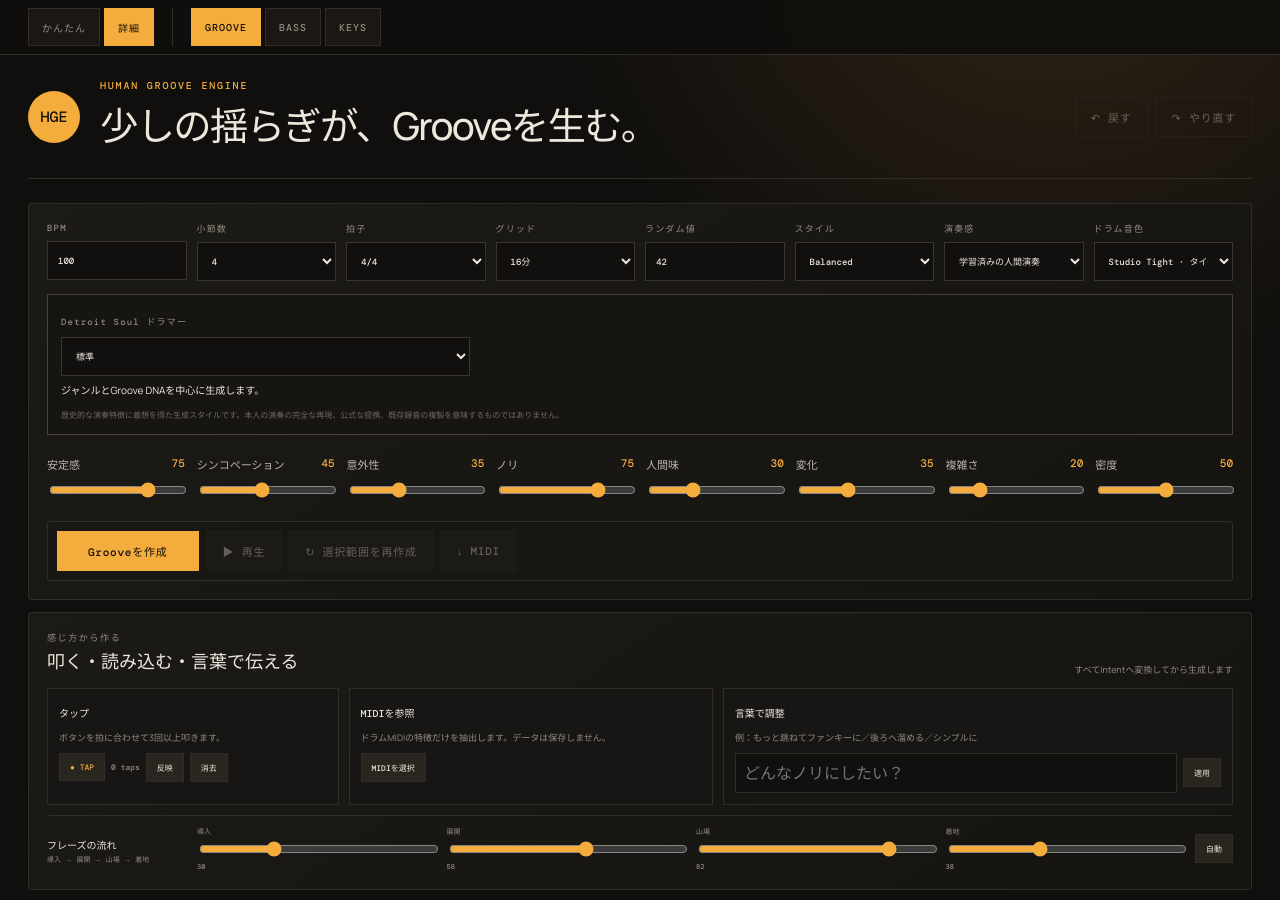
Test: passes the generated Groove candidate into the Bass context link flow
Click the button "Grooveを作成" at x=128, y=550, box [57,530,198,570]
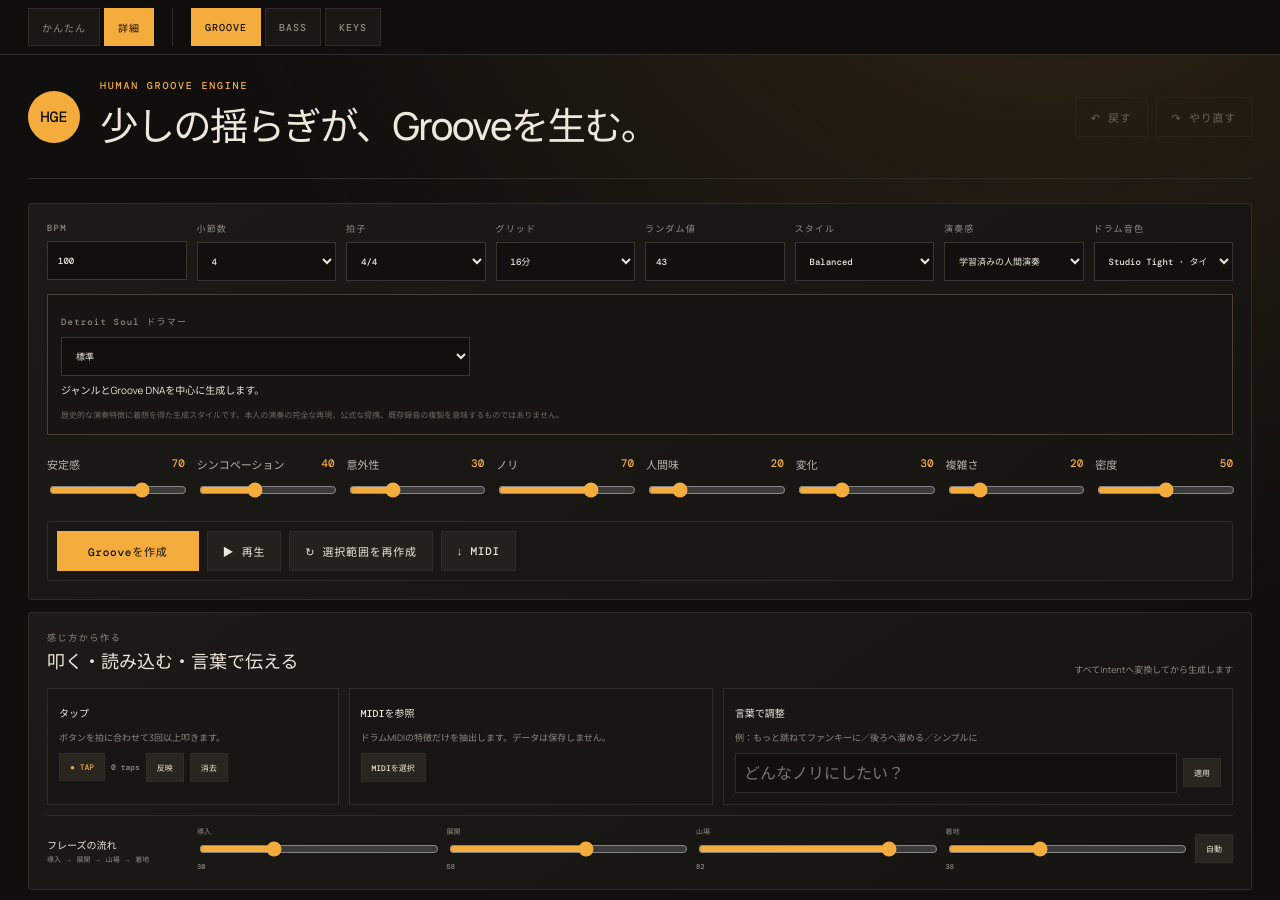
Select "Warm Pocket · 柔らかく太い" in the dropdown labelled "ドラム音色" at x=1163, y=262, box [1094,242,1233,281]
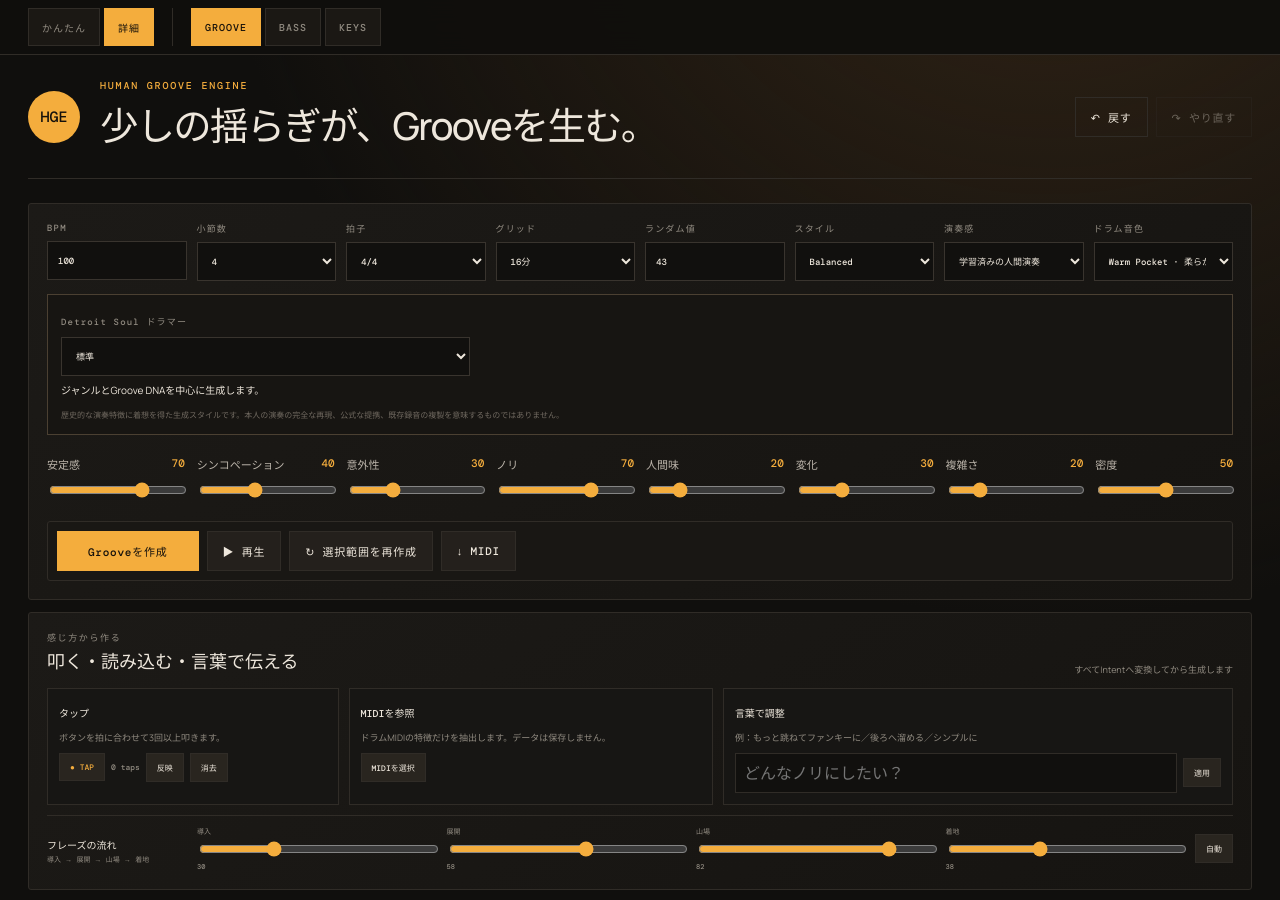
Click the button "BASS" at x=293, y=27, box [265,8,321,46]
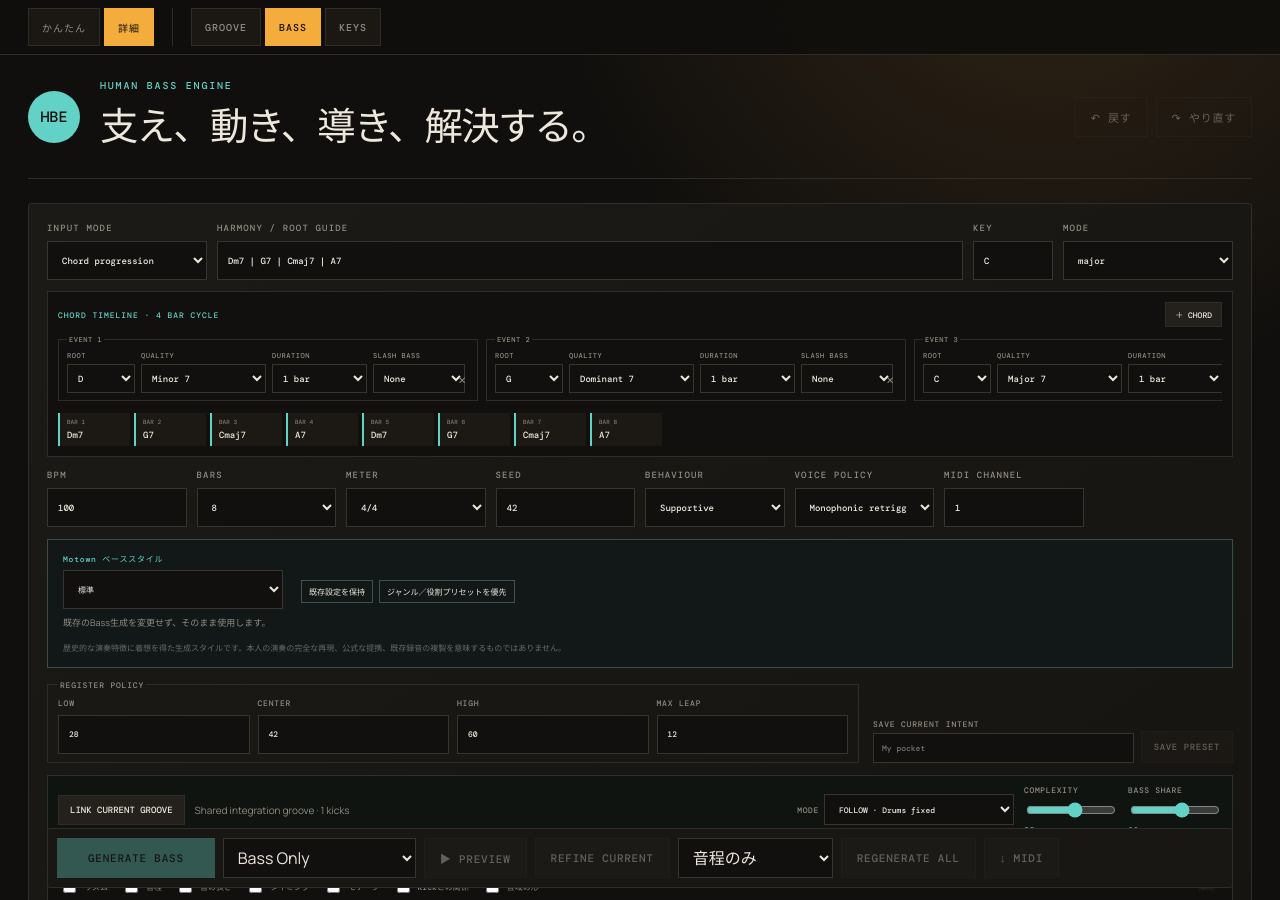
Check: the button "LINK CURRENT GROOVE" is enabled
Click the button "LINK CURRENT GROOVE" at x=121, y=810, box [58,795,185,825]
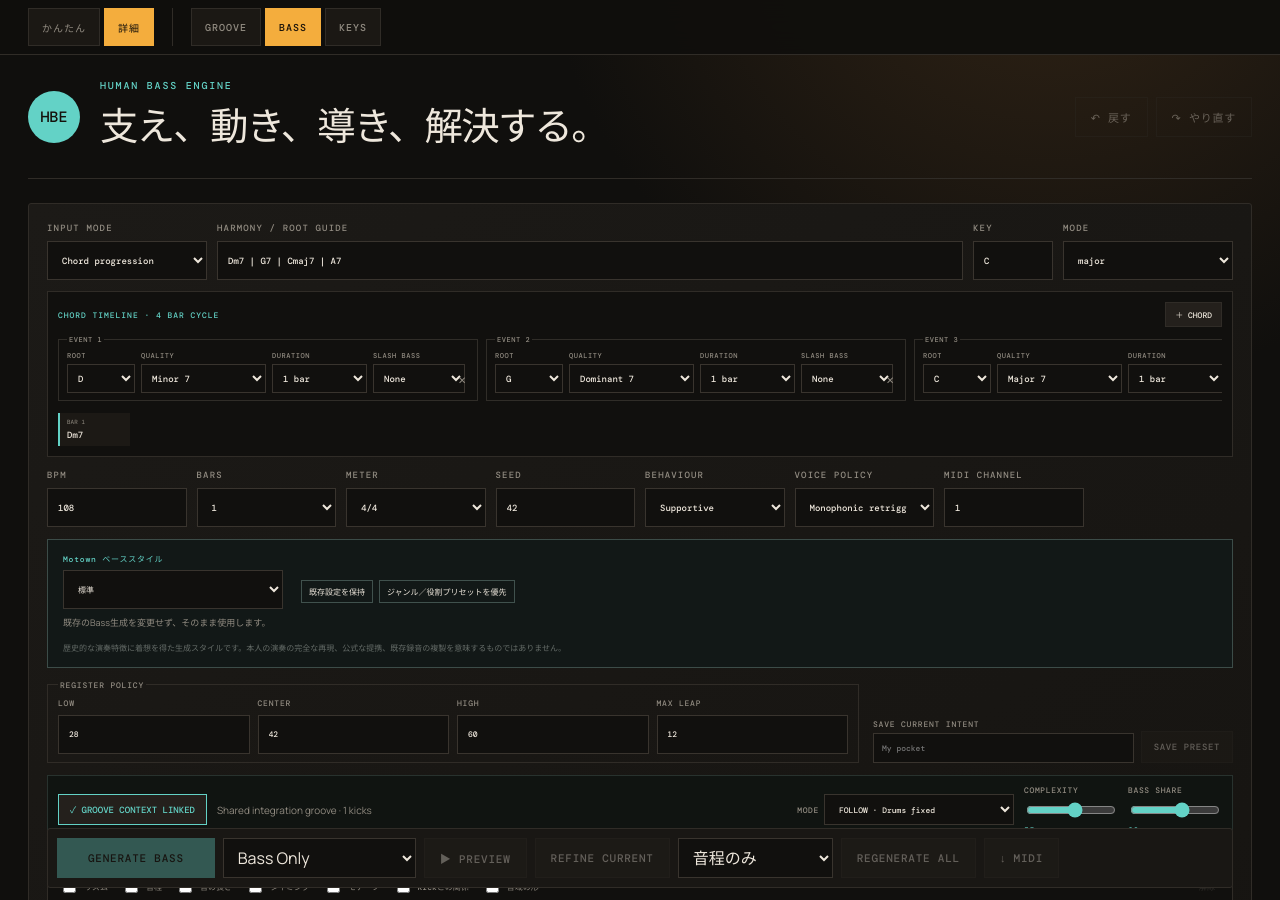
Check: the button "✓ GROOVE CONTEXT LINKED" is shown, box [58,794,207,825]
